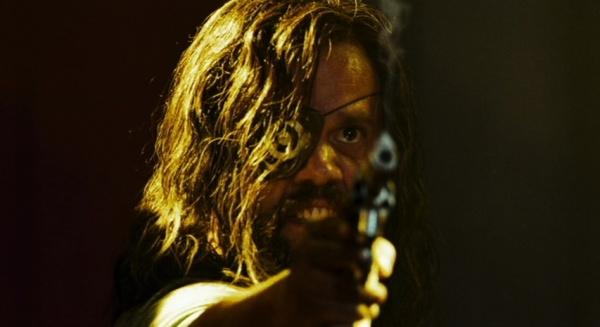Gun: (348, 132, 400, 251)
